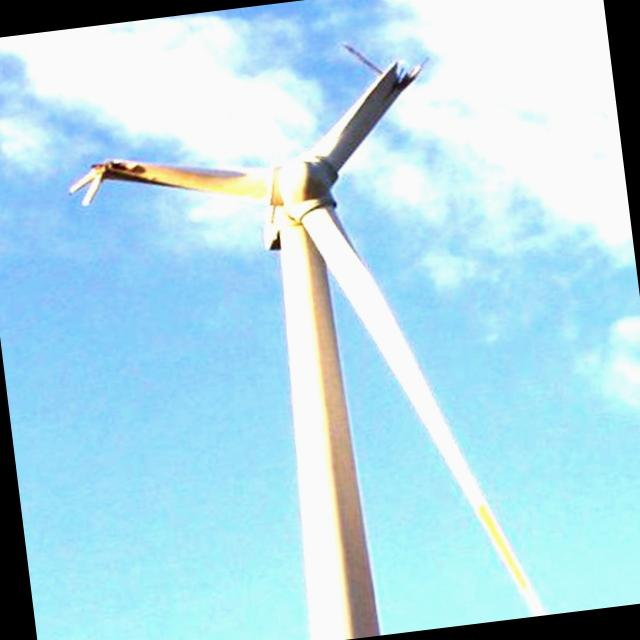crack: (52, 134, 176, 225), (339, 19, 448, 120)
